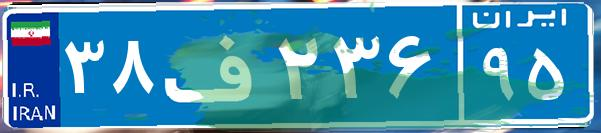2: (273, 28, 330, 110)
3: (330, 28, 385, 110), (57, 26, 110, 107)
5: (525, 38, 570, 115)
6: (385, 28, 445, 110)
8: (110, 28, 158, 105)
9: (475, 38, 525, 113)
ف: (158, 15, 273, 115)
